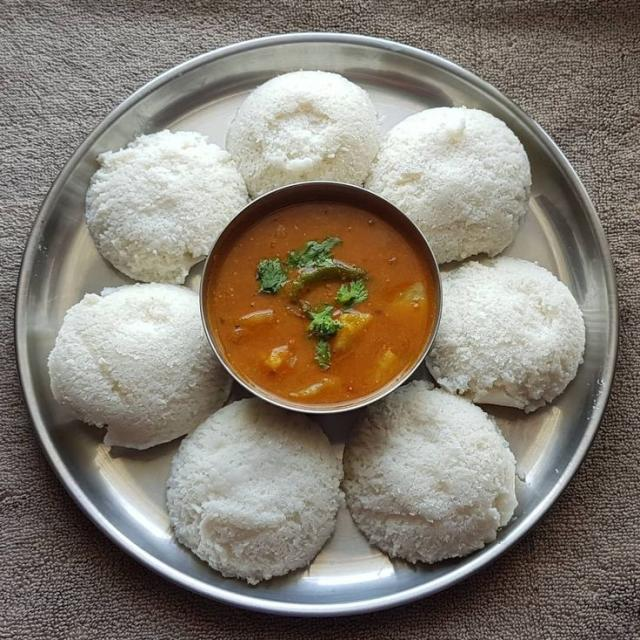idly: (163, 402, 349, 586), (43, 276, 229, 445), (378, 75, 541, 261), (347, 391, 525, 556), (427, 261, 600, 413), (87, 124, 231, 272), (232, 76, 381, 188)
sambar curry: (199, 177, 441, 415)
